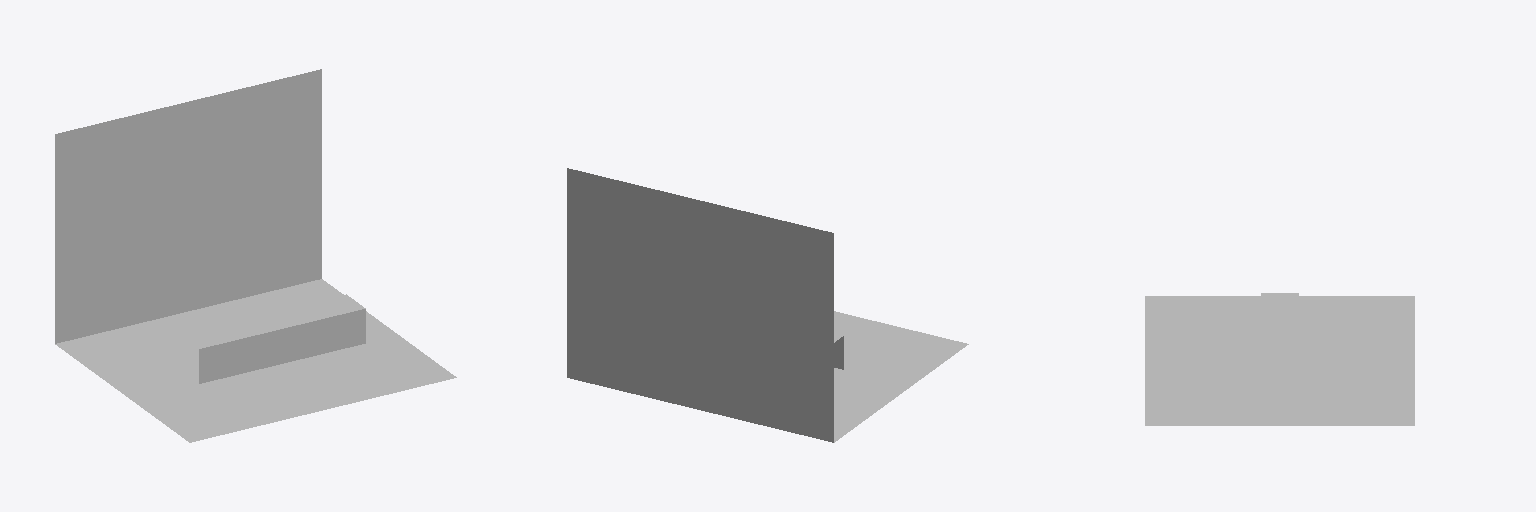
File: StorageTable.obj
The picture shows the model from 3 angles: view 1: azimuth 30°, elevation 25°; view 2: azimuth 150°, elevation 25°; view 3: azimuth 270°, elevation 25°; orthographic projection.
Visible parts, largest first — view 1: Default; view 2: Default; view 3: Default.
Boxes of the visible parts, x1,y1,x2,y2 form: Default: [55, 69, 456, 442]; Default: [567, 168, 968, 442]; Default: [1145, 293, 1414, 425].
Size of the model in its own units: 16 by 12 by 14.